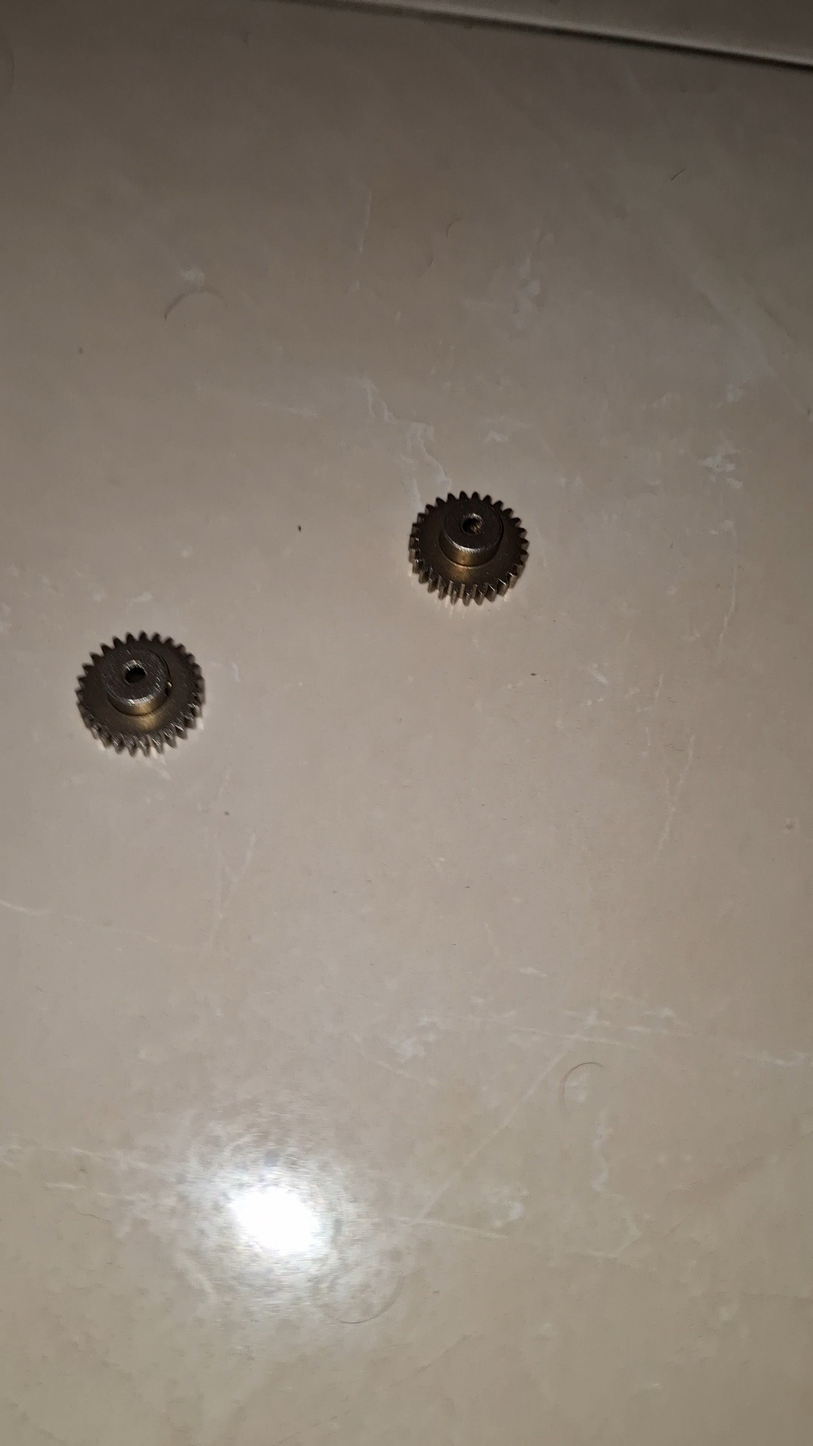spur gear: (77, 632, 204, 754), (410, 492, 527, 602)
